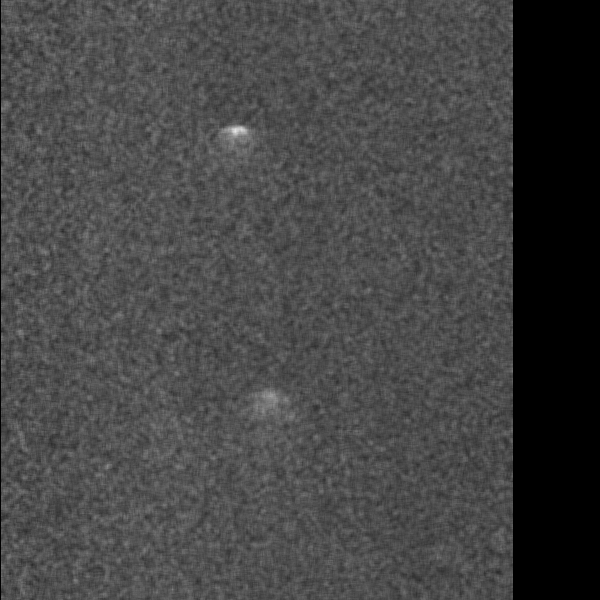spark: (211, 120, 258, 159), (250, 381, 287, 427)
